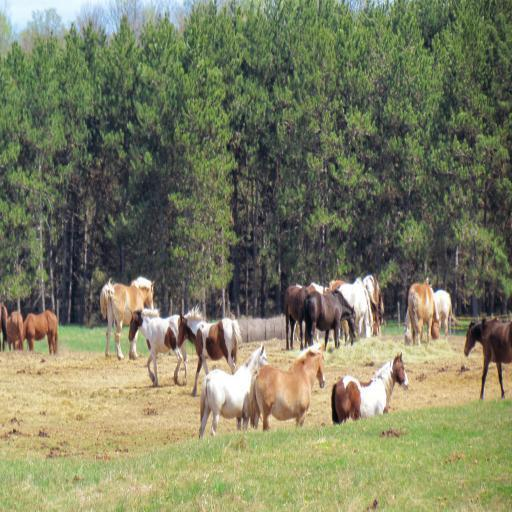horse: (280, 270, 386, 350), (246, 338, 326, 430), (197, 338, 269, 439), (330, 346, 410, 425), (176, 310, 242, 398), (127, 305, 192, 382), (98, 278, 156, 358), (462, 312, 512, 400), (402, 286, 460, 345), (406, 280, 442, 346), (16, 305, 60, 354), (6, 308, 24, 354), (0, 302, 8, 350)
